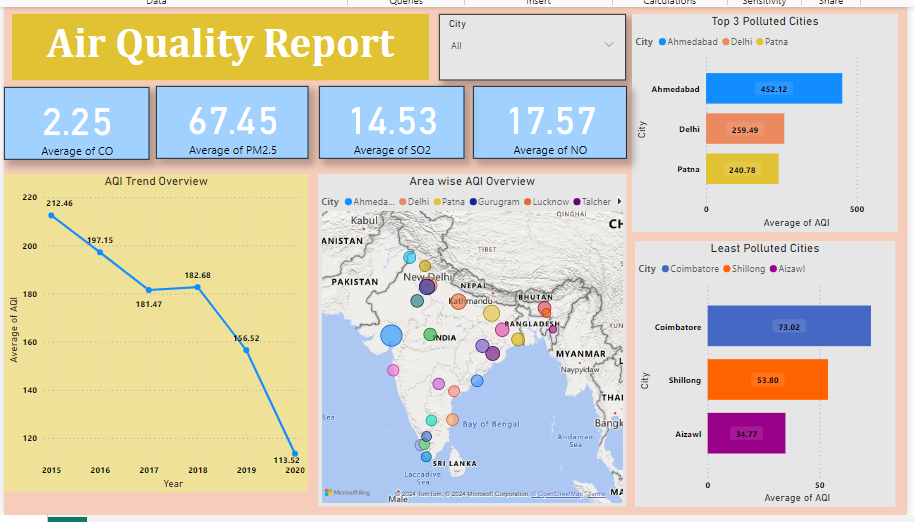

Layout of this report page (visuals, bound fields, positions):
{"tool":"powerbi","page":{"name":"Page 1","canvas":[1280,720],"ordinal":0},"visuals":[{"type":"lineChart","title":"AQI Trend Overview","fields":{"Category":["city_day.Date.Variation.Date Hierarchy.Year","city_day.Date.Variation.Date Hierarchy.Quarter","city_day.Date.Variation.Date Hierarchy.Month","city_day.Date.Variation.Date Hierarchy.Day"],"Y":["Avg(city_day.AQI)"]},"box":[0,237.1,431.4,451.4],"z":0},{"type":"slicer","fields":{"Values":["city_day.City"]},"box":[616.5,9.9,265,93.5],"z":1000},{"type":"barChart","title":"Top 3 Polluted Cities","fields":{"Category":["city_day.City"],"Y":["Avg(city_day.AQI)"],"Series":["city_day.City"]},"box":[890,10,377.1,308.6],"z":2000},{"type":"barChart","title":"Least Polluted Cities","fields":{"Category":["city_day.City"],"Y":["Avg(city_day.AQI)"],"Series":["city_day.City"]},"box":[894.3,331.4,368.6,377.1],"z":3000},{"type":"card","fields":{"Values":["Avg(city_day.CO)"]},"box":[0,112.9,205.7,102.9],"z":4000},{"type":"card","fields":{"Values":["Avg(city_day.NO)"]},"box":[665,112.5,217.5,102.5],"z":5000},{"type":"card","fields":{"Values":["Avg(city_day.SO2)"]},"box":[446.2,112.5,206.2,102.5],"z":6000},{"type":"card","fields":{"Values":["Avg(city_day.PM2.5)"]},"box":[215,112.5,216.2,102.5],"z":7000},{"type":"map","title":"Area wise AQI Overview","fields":{"Category":["city_day.City"],"Size":["Avg(city_day.AQI)"],"Series":["city_day.City"]},"box":[445.7,237.1,437.1,471.4],"z":8000},{"type":"textbox","box":[11.2,10,591.2,93.8],"z":9000}]}

Visuals, with their boxes in screenshot pixels (x1, y1, x2, y2):
"AQI Trend Overview" lineChart: BBox(0, 172, 304, 490)
slicer - city_day.City: BBox(434, 12, 621, 78)
"Top 3 Polluted Cities" barChart: BBox(627, 12, 892, 229)
"Least Polluted Cities" barChart: BBox(630, 238, 889, 504)
card - Avg(city_day.CO): BBox(0, 84, 145, 157)
card - Avg(city_day.NO): BBox(468, 84, 621, 156)
card - Avg(city_day.SO2): BBox(314, 84, 459, 156)
card - Avg(city_day.PM2.5): BBox(151, 84, 304, 156)
"Area wise AQI Overview" map: BBox(314, 172, 622, 504)
textbox: BBox(8, 12, 424, 78)
